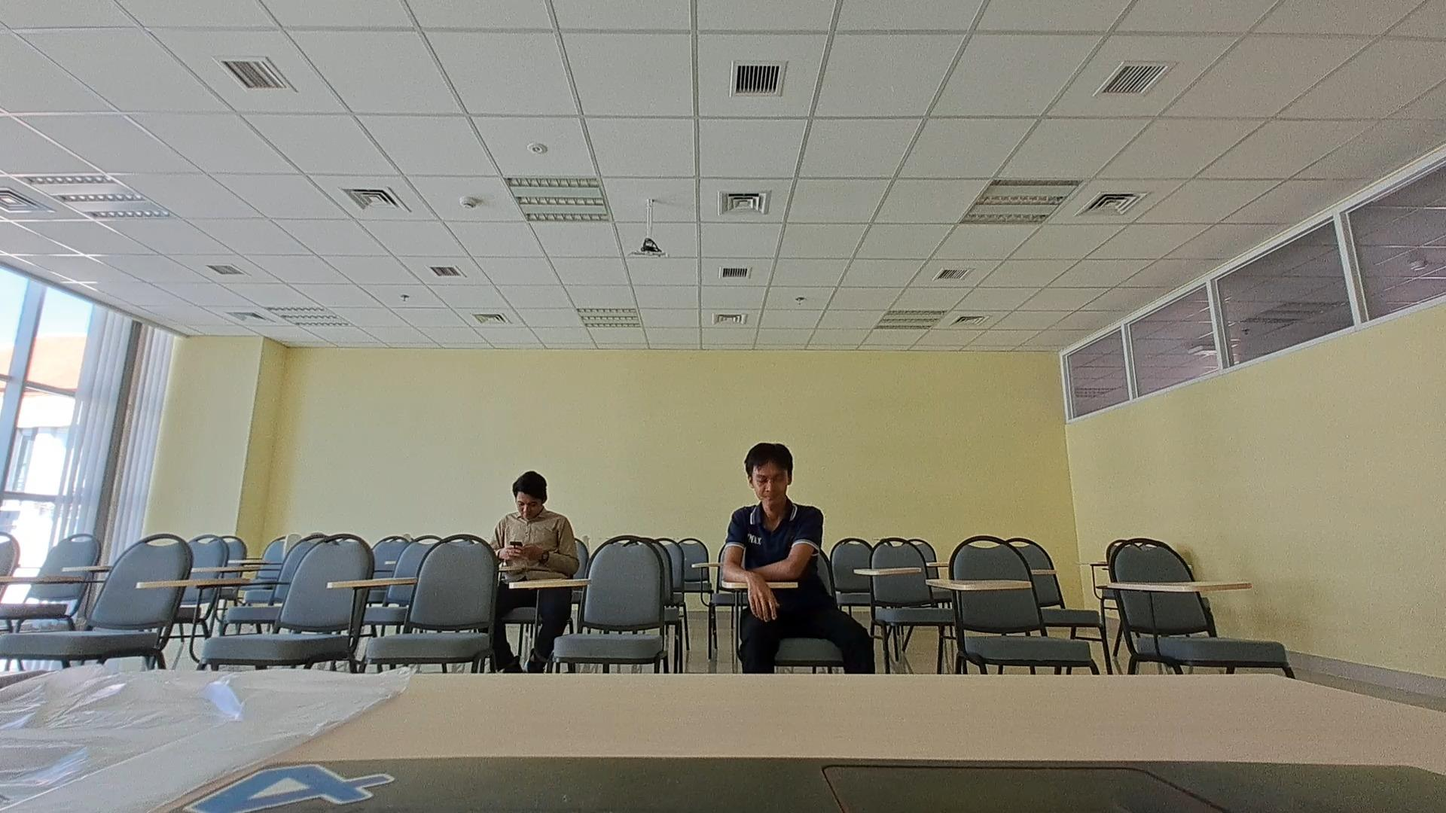phone: (486, 469, 580, 583)
study: (714, 433, 828, 597)
